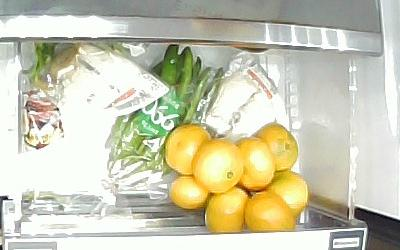tangerine: (192, 138, 242, 194), (163, 125, 212, 176), (252, 121, 300, 172), (235, 137, 276, 190), (246, 191, 297, 232), (267, 170, 308, 219), (205, 189, 246, 233), (168, 175, 208, 210)
